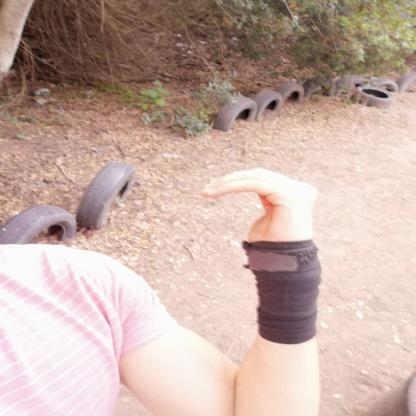HAA: (188, 157, 335, 263)
